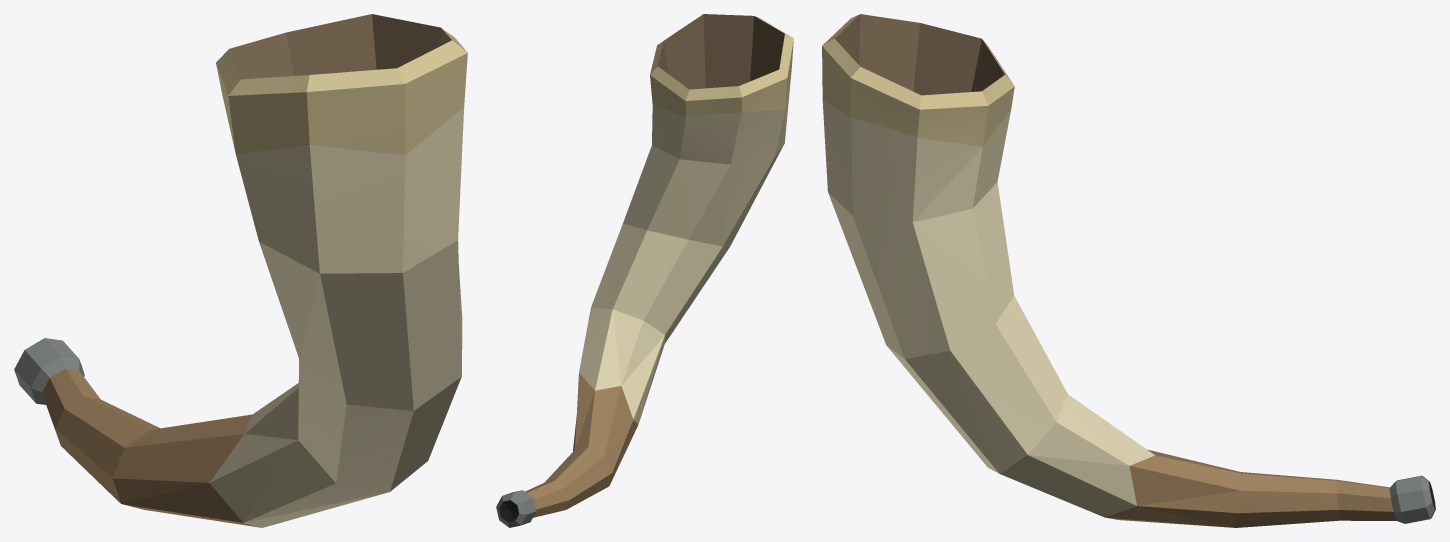
File: Cuerno.glb
The picture shows the model from 3 angles, left to right: view 1: azimuth 30°, elevation 25°; view 2: azimuth 150°, elevation 25°; view 3: azimuth 270°, elevation 25°; orthographic projection. The views are drawn at different scales.
Visible parts, largest first — view 1: SM_Wep_Horn_01; view 2: SM_Wep_Horn_01; view 3: SM_Wep_Horn_01.
Part boxes in pixels (x1,y1,x2,y2): SM_Wep_Horn_01: (14, 14, 467, 527); SM_Wep_Horn_01: (496, 14, 793, 527); SM_Wep_Horn_01: (822, 14, 1435, 527).
Bounding box in the file's own units: 0.2741 × 0.6135 × 0.7067.
1 material, 1 textured.
